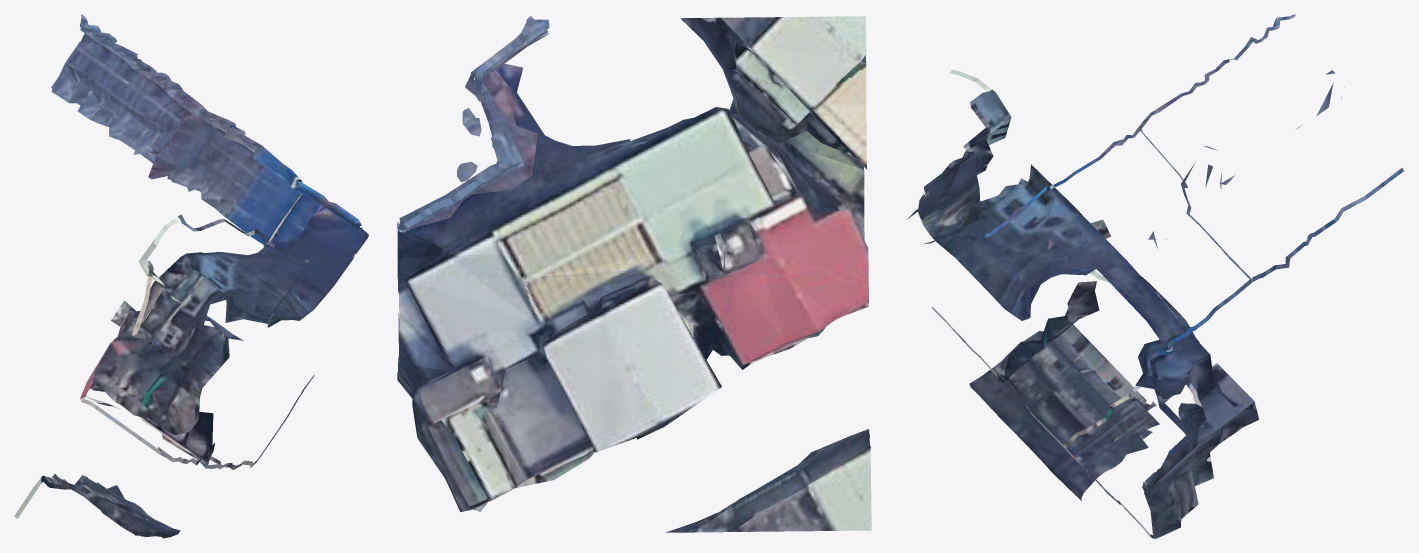
3 renders of one model, left to right at view 1: azimuth 30°, elevation 25°; view 2: azimuth 150°, elevation 25°; view 3: azimuth 270°, elevation 25°, orthographic. The views are drawn at different scales.
Size of the model in its own units: 38.06 by 50.59 by 47.3.
Materials: 1 (1 with a texture image).
